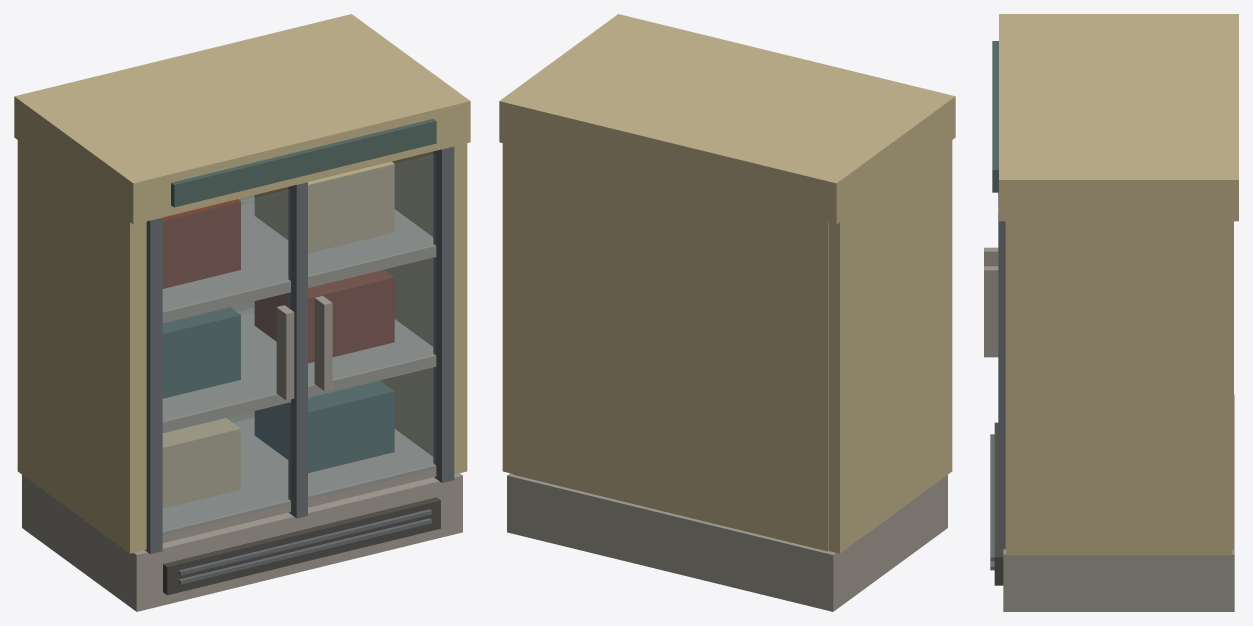
The model's file is prop-chilled-display.glb.
3 views of the same model, side by side, from view 1: azimuth 30°, elevation 25°; view 2: azimuth 150°, elevation 25°; view 3: azimuth 270°, elevation 25° (orthographic).
Parts seen in each view (by area): view 1: chilled_display; view 2: chilled_display; view 3: chilled_display.
Boxes of the visible parts, left/top/right/bottom form: chilled_display: left=14, top=14, right=470, bottom=611; chilled_display: left=499, top=14, right=955, bottom=611; chilled_display: left=984, top=14, right=1238, bottom=611.
Size of the model in its own units: 0.9 by 1.1 by 0.5845.
